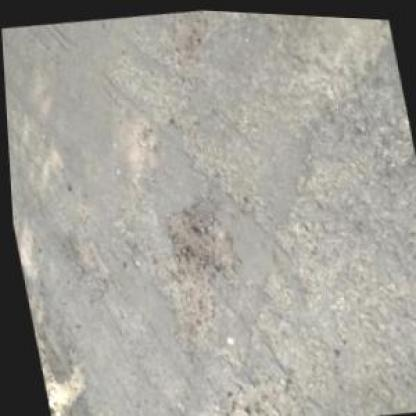pothole: (156, 189, 235, 276)
